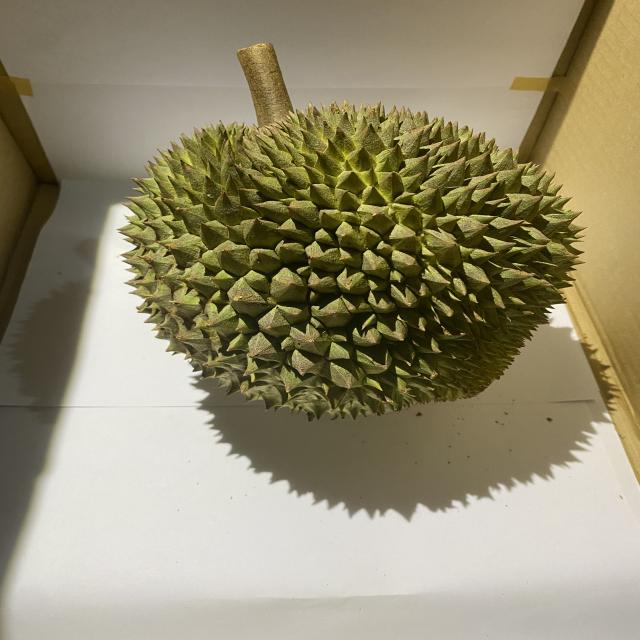immature: (113, 102, 592, 425)
